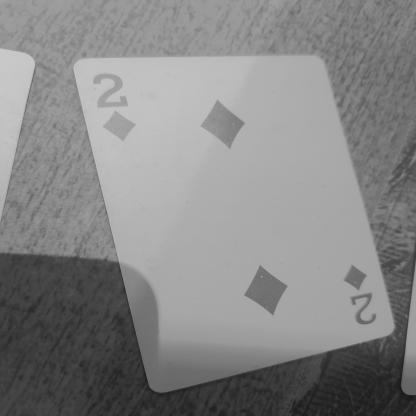2D: (96, 70, 166, 150), (334, 252, 388, 330)
